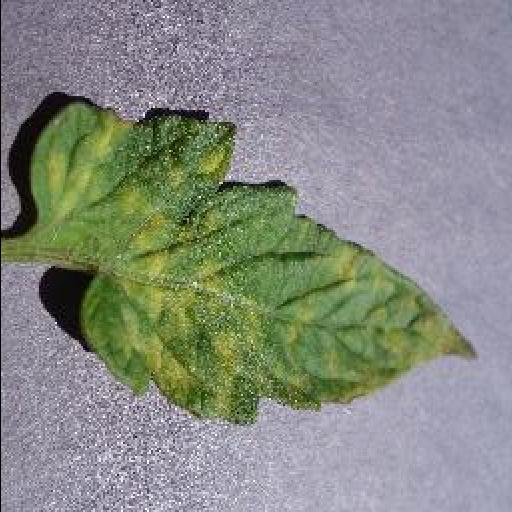disease_tomato: (26, 98, 480, 430)
